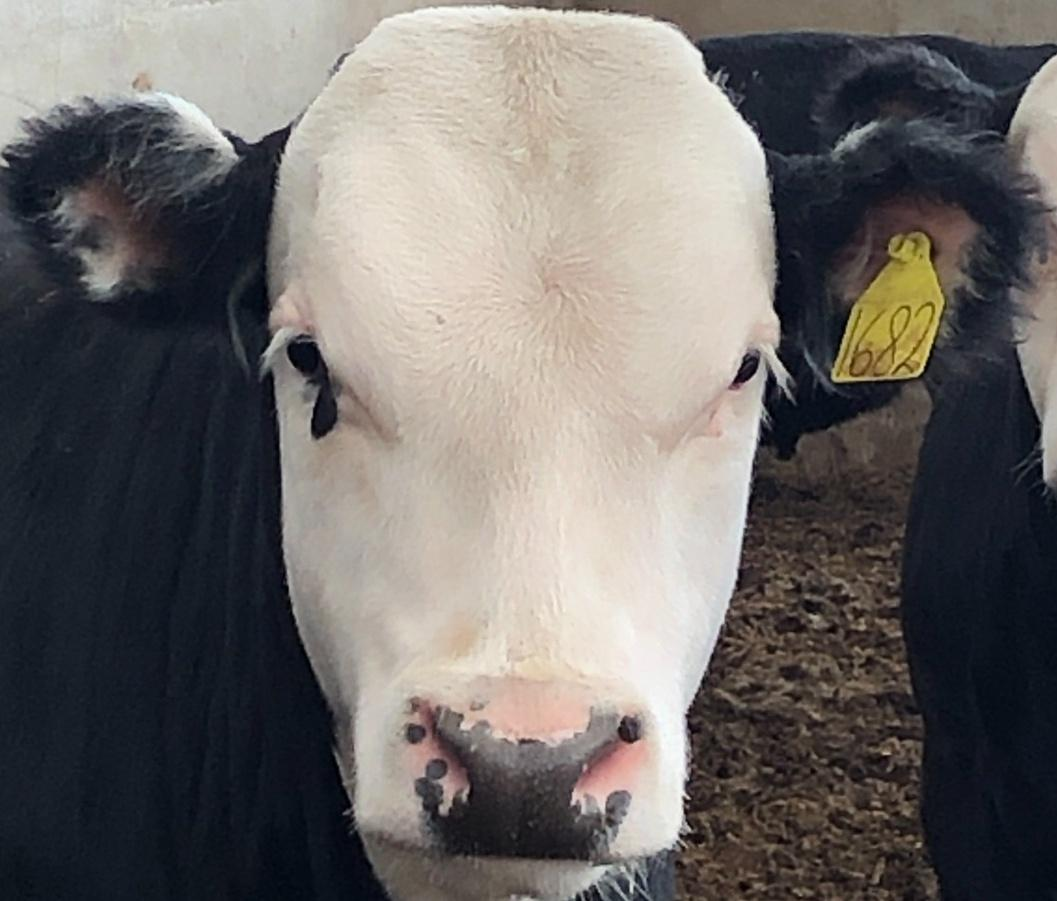muzzles: (340, 663, 693, 899)
